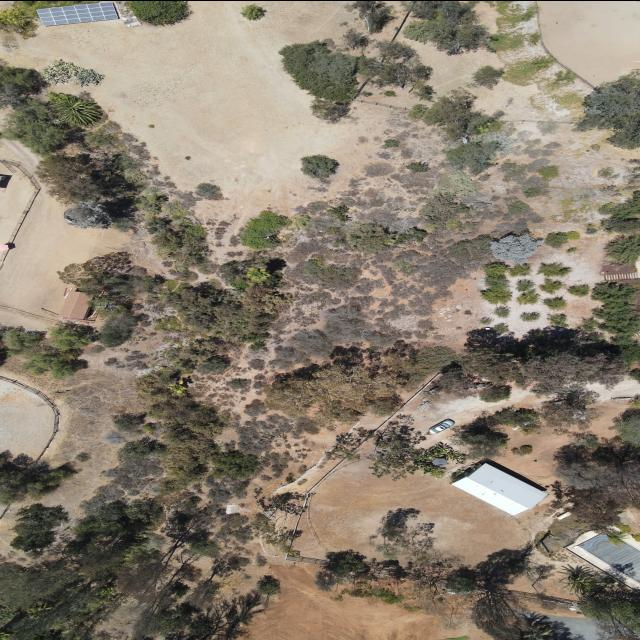solar-panels: (36, 0, 119, 26)
